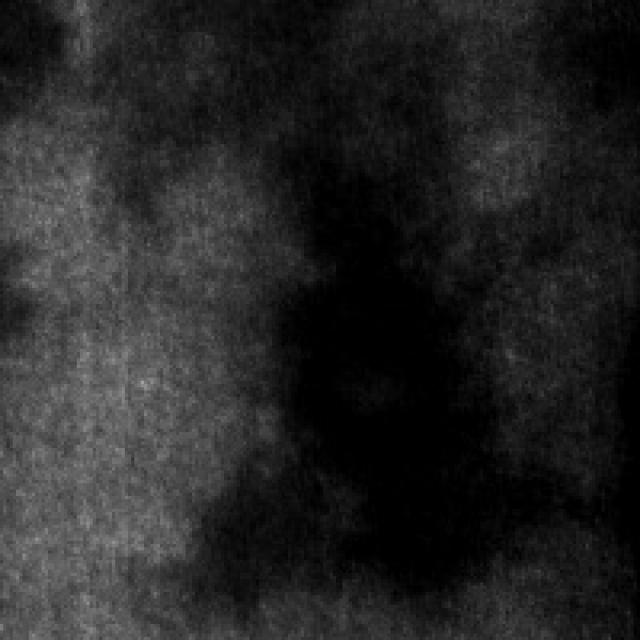patches: (234, 119, 528, 602), (3, 0, 80, 118)
